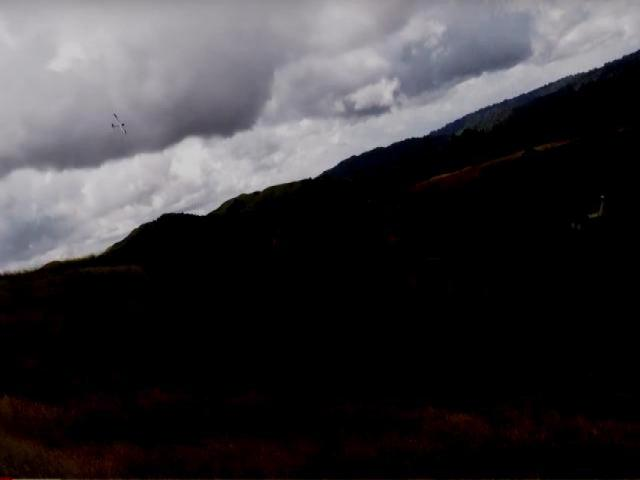iha: (107, 116, 131, 136)
